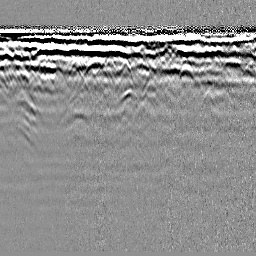cavity: (117, 87, 139, 103)
